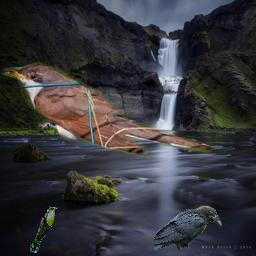Crow: (154, 205, 222, 252)
Cuckoo: (1, 59, 219, 165), (30, 207, 58, 253)
